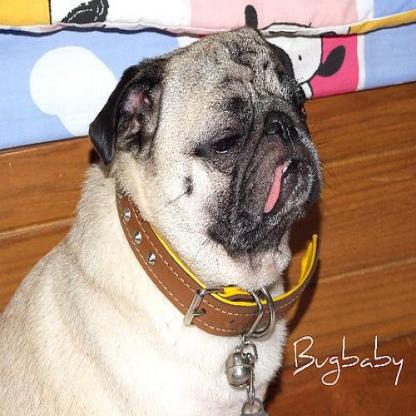pug: (0, 0, 324, 414)
